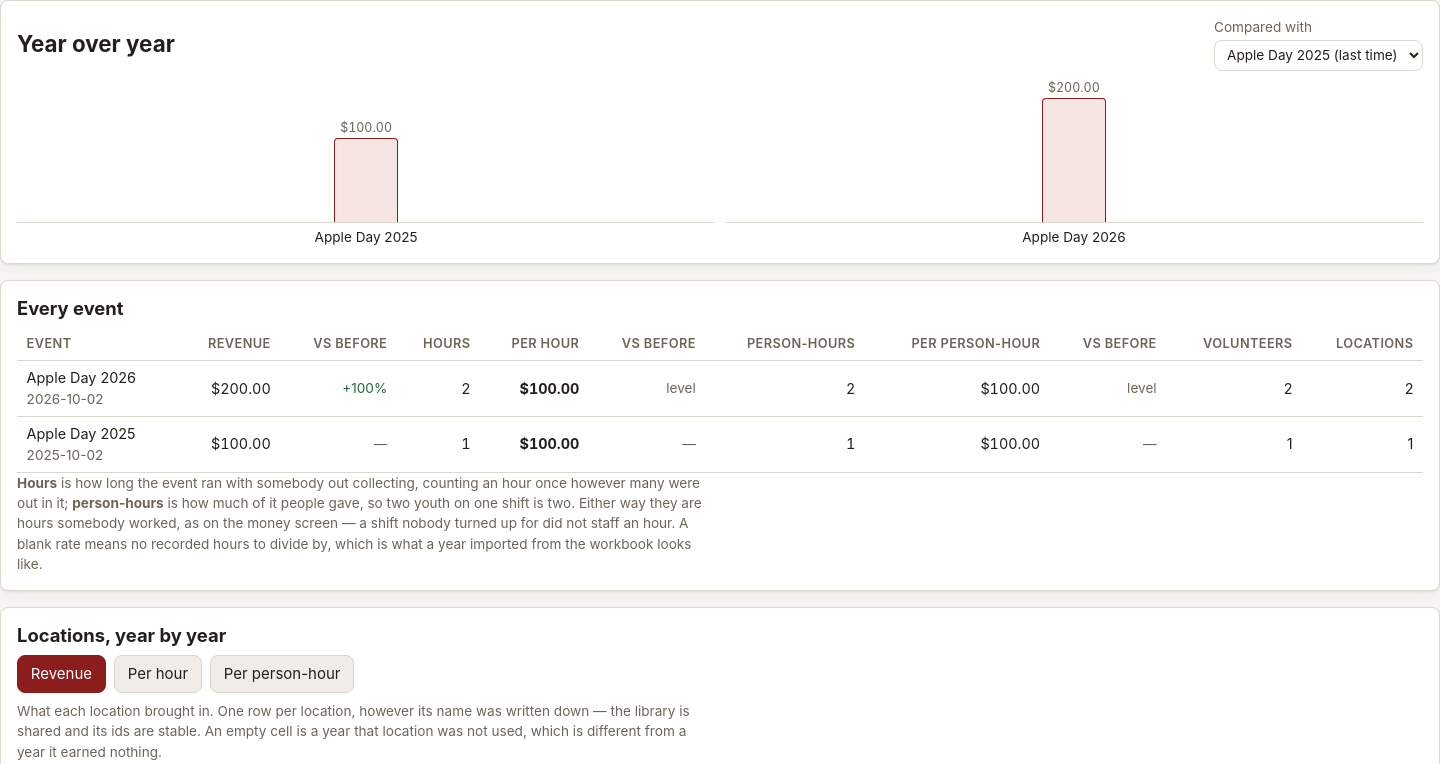
Test: what the locations table is measuring › says what the chosen measure means
The image size is (1440, 764).
What coordinates should you click on to do the following:
click the button "Per hour"
I would click on:
 (158, 674)
Its box is x1=114 y1=656 x2=202 y2=693.
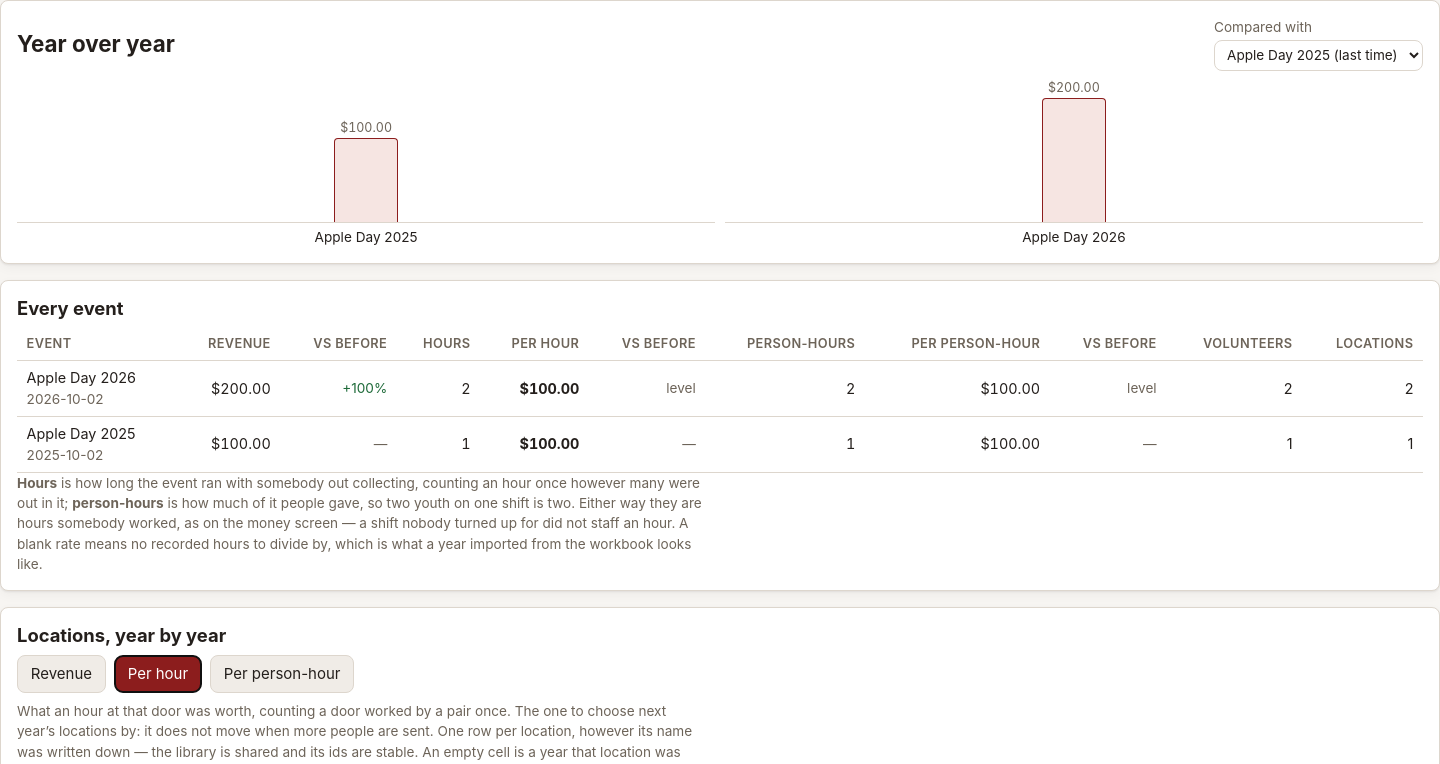
Check: the text "counting a door worked by a pair once" is shown, box x1=17 y1=703 x2=666 y2=739
What coordinates should you click on to do the following:
click the button "Per person-hour"
I would click on:
 (282, 674)
Its box is x1=210 y1=656 x2=354 y2=693.
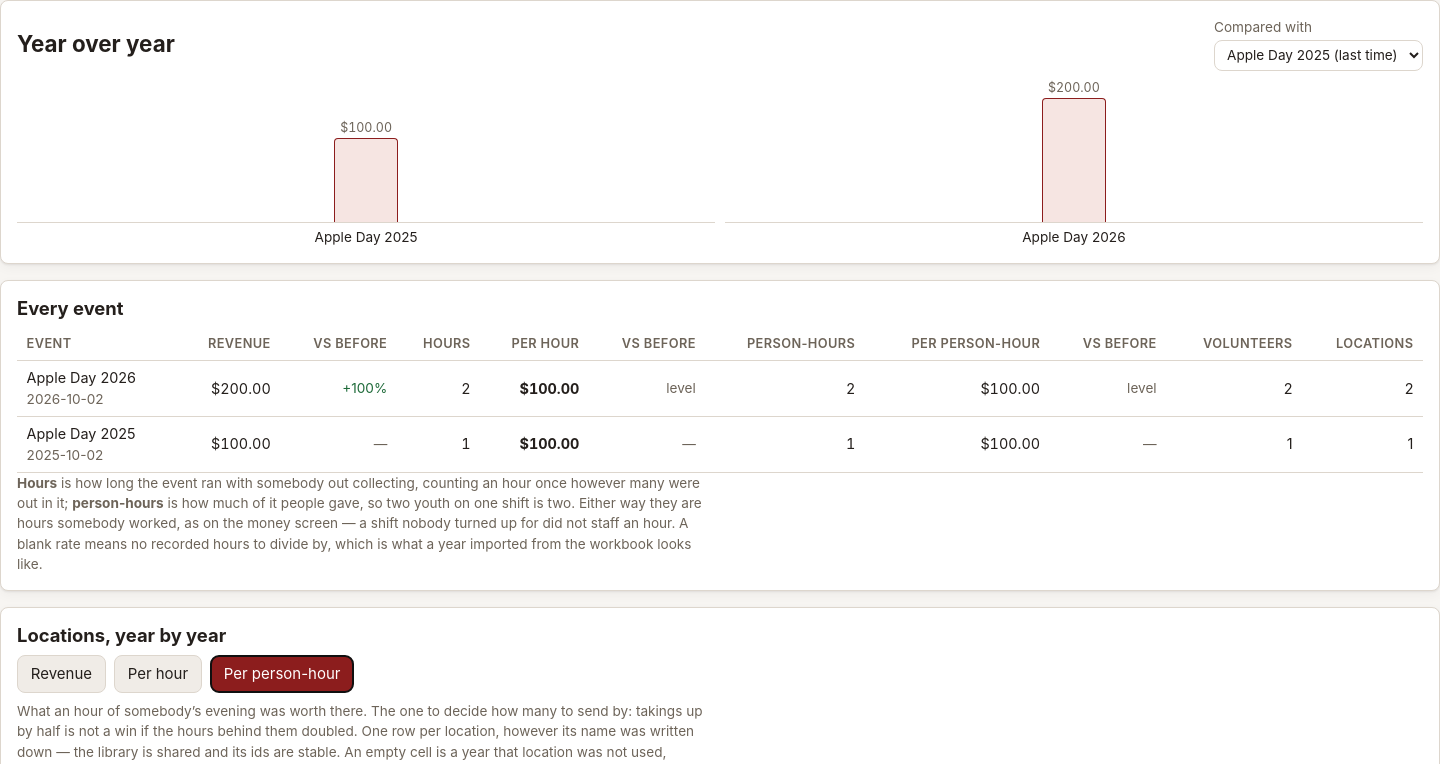
Check: the text "takings up by half is not a win" is shown, box x1=17 y1=703 x2=703 y2=739
